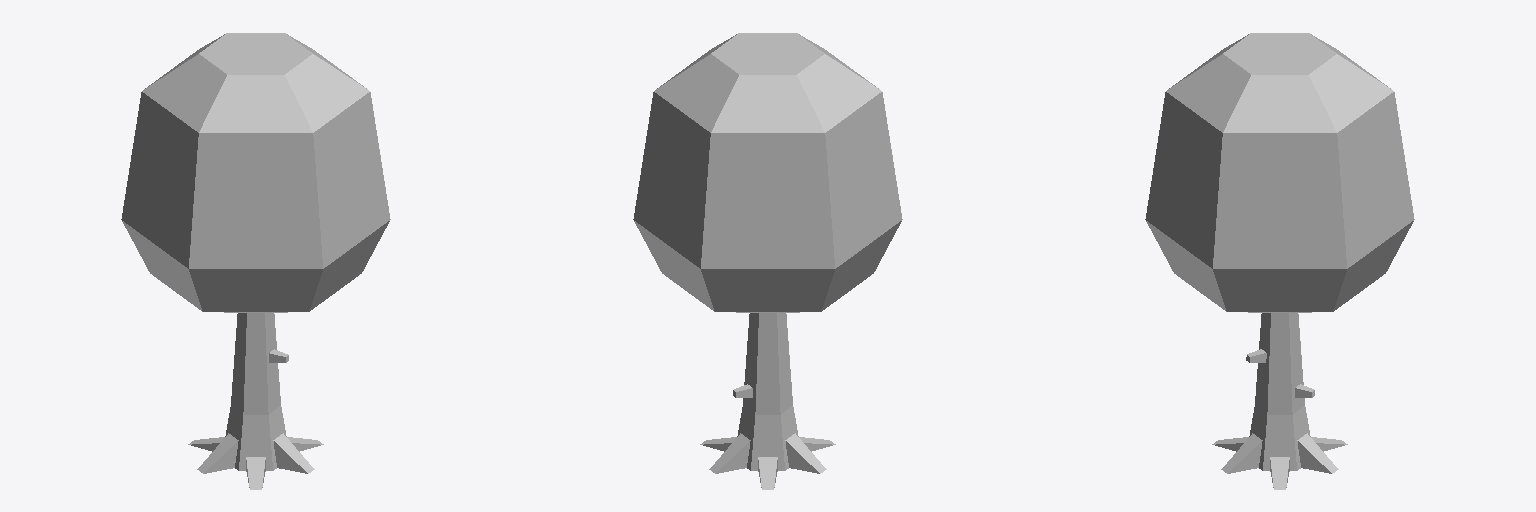
File: tree_oak_dark.obj
The picture shows the model from 3 angles: view 1: azimuth 30°, elevation 25°; view 2: azimuth 150°, elevation 25°; view 3: azimuth 270°, elevation 25°; orthographic projection.
Parts seen in each view (by area): view 1: tree_oak_dark; view 2: tree_oak_dark; view 3: tree_oak_dark.
Boxes of the visible parts, x1,y1,x2,y2 form: tree_oak_dark: [121, 33, 390, 489]; tree_oak_dark: [633, 33, 902, 489]; tree_oak_dark: [1145, 33, 1414, 489].
Size of the model in its own units: 0.6406 by 1.23 by 0.7396.